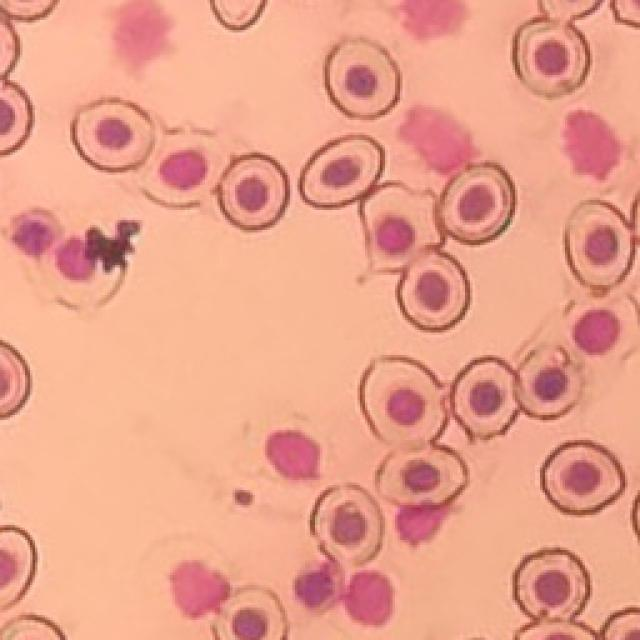RBC: (360, 356, 448, 444), (360, 182, 441, 271), (140, 126, 226, 208), (35, 235, 126, 309), (565, 200, 635, 290), (299, 135, 385, 208), (439, 162, 515, 244), (541, 441, 625, 514), (512, 19, 590, 96), (72, 99, 155, 171), (310, 484, 384, 564), (398, 249, 470, 331), (325, 40, 400, 118), (451, 356, 519, 439), (376, 445, 466, 506), (219, 154, 289, 230), (514, 549, 590, 619), (516, 346, 581, 419), (565, 296, 640, 359), (214, 586, 288, 640), (0, 525, 38, 608), (0, 526, 38, 608), (0, 79, 32, 154), (0, 341, 30, 417), (210, 0, 267, 31), (515, 620, 598, 640), (601, 608, 640, 640)
WBC: (400, 106, 478, 174), (564, 110, 621, 179), (170, 561, 230, 618), (266, 430, 320, 479), (344, 571, 392, 625), (401, 0, 465, 38), (294, 560, 344, 608), (395, 504, 449, 545), (12, 210, 59, 257)
